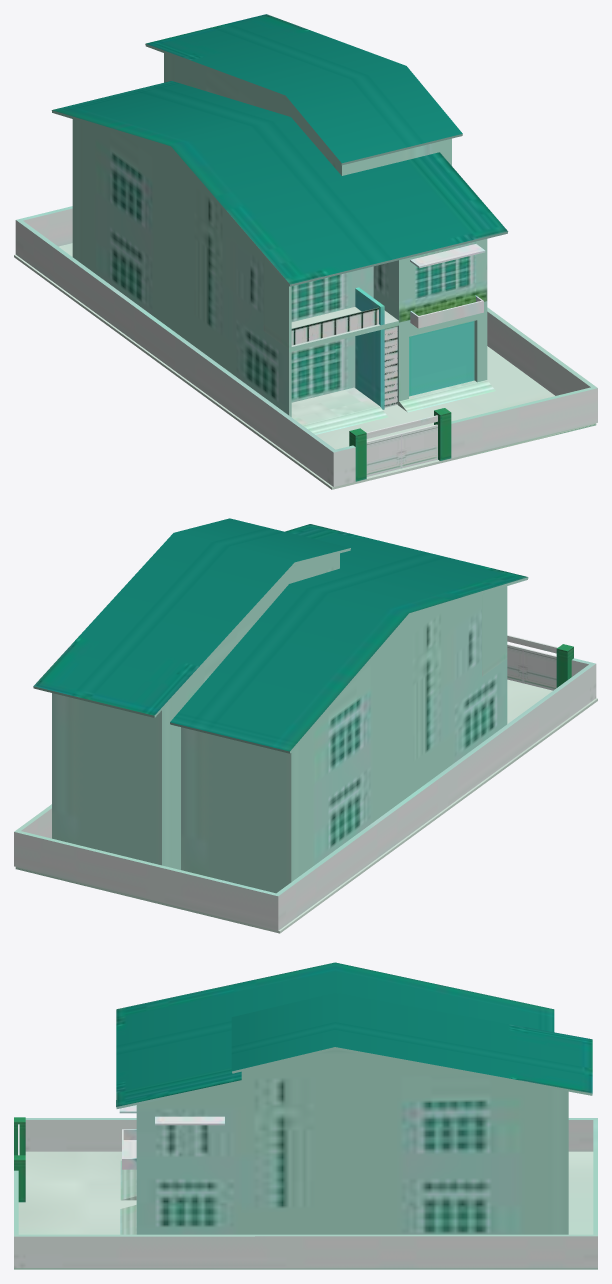
The picture shows the model from 3 angles, top to bottom: view 1: azimuth 30°, elevation 25°; view 2: azimuth 150°, elevation 25°; view 3: azimuth 270°, elevation 25°; orthographic projection. The views are drawn at different scales.
Parts seen in each view (by area): view 1: 594c7672cbc4876d74b5d1bc.001; view 2: 594c7672cbc4876d74b5d1bc.001; view 3: 594c7672cbc4876d74b5d1bc.001.
Boxes of the visible parts, x1,y1,x2,y2 form: 594c7672cbc4876d74b5d1bc.001: [14, 14, 597, 489]; 594c7672cbc4876d74b5d1bc.001: [14, 518, 597, 933]; 594c7672cbc4876d74b5d1bc.001: [14, 962, 597, 1269].
Bounding box in the file's own units: 12.08 × 10.56 × 25.
Materials: 1 (1 with a texture image).
